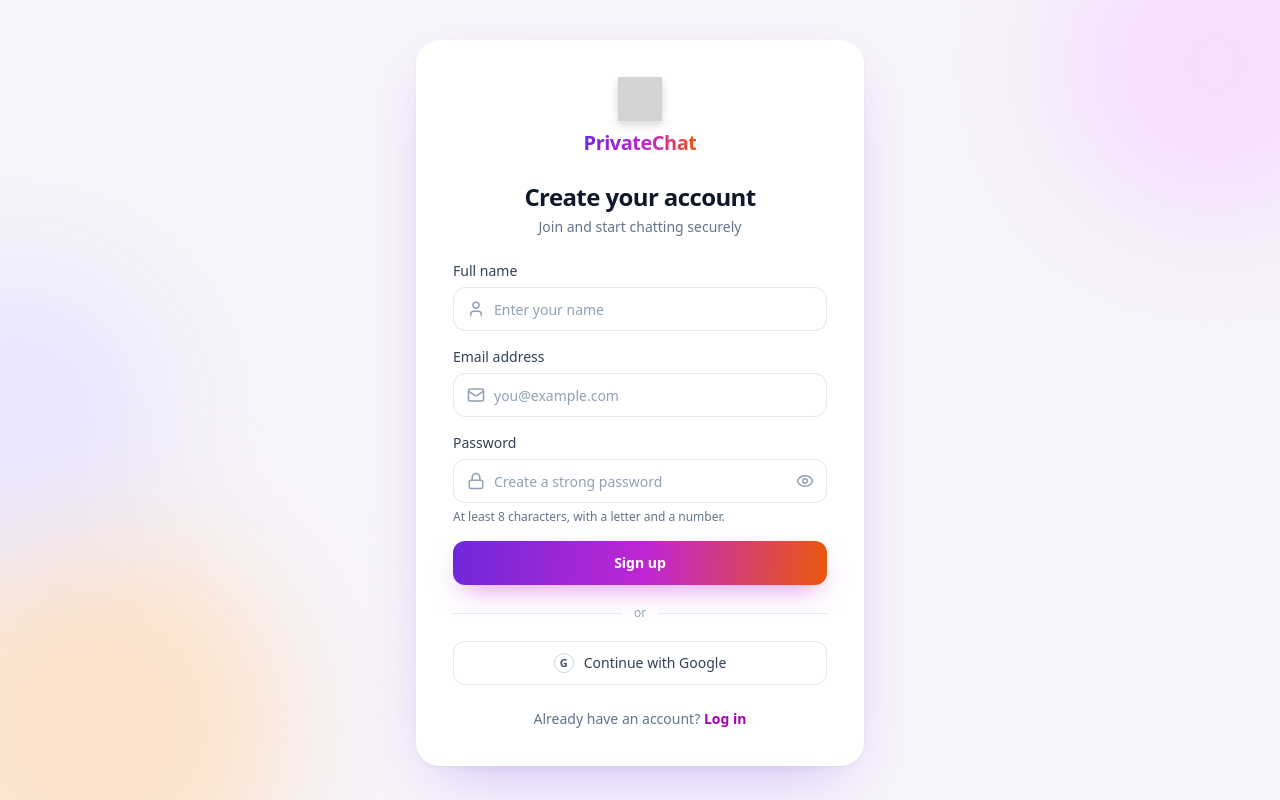
sign-up page › requires a letter and a number in the password
The image size is (1280, 800).
Type "Ratan Kumar" into the field labelled "Full name" at (640, 309), box [453,287,827,331]
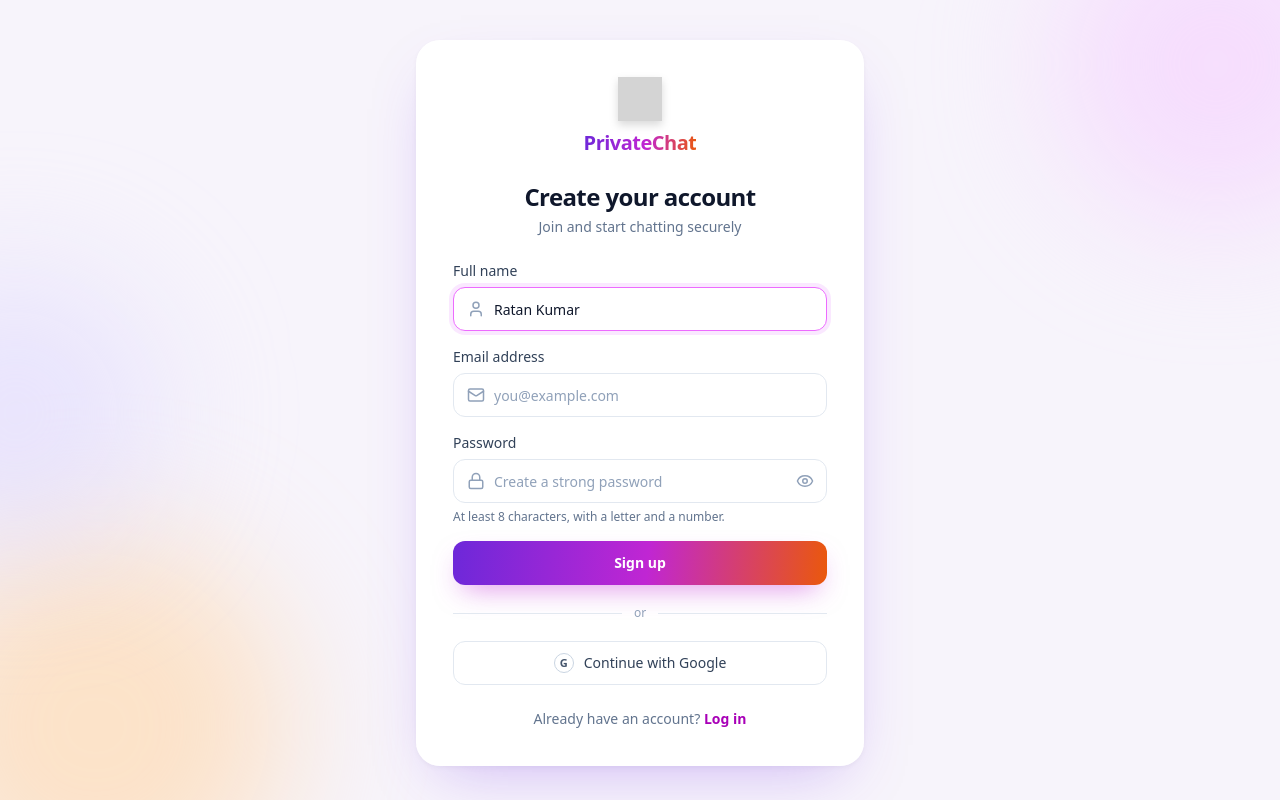
Type "ratan@example.com" into the field labelled "Email address" at (640, 395), box [453,373,827,417]
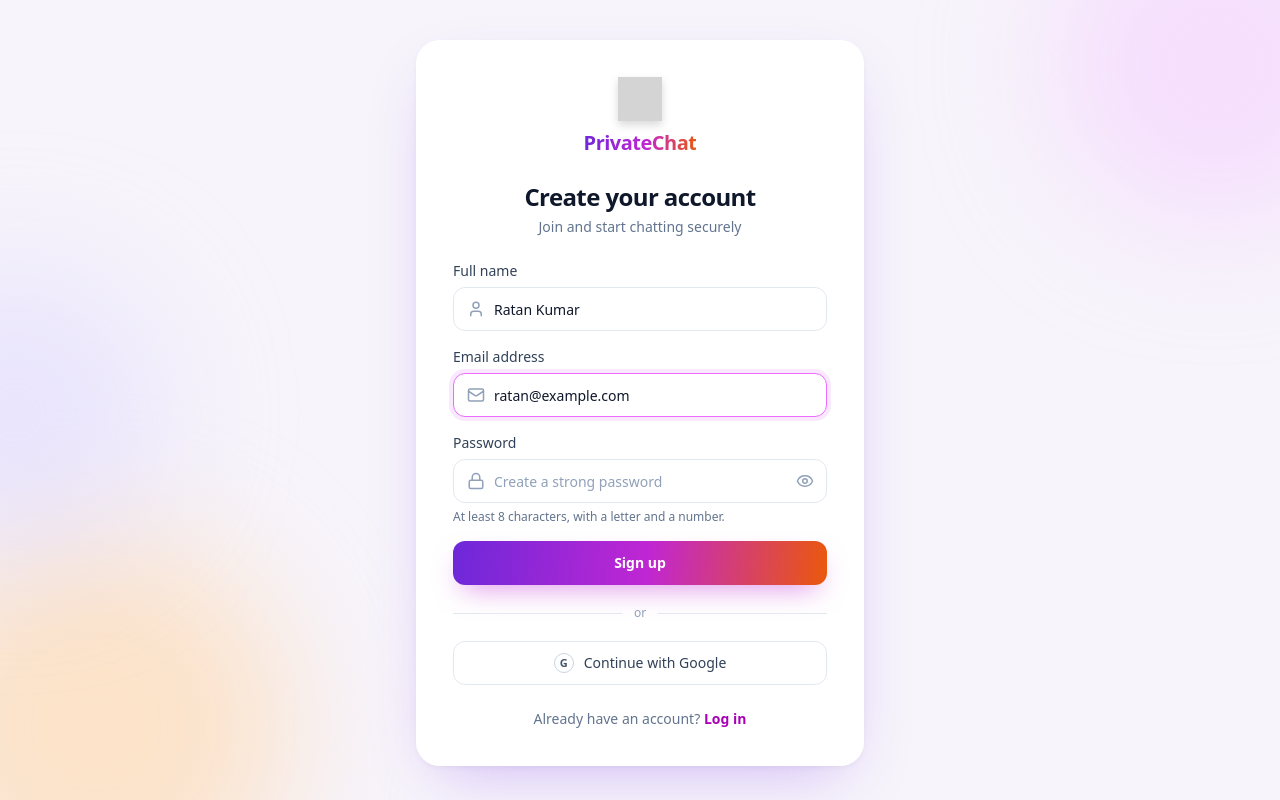
Type "abcdefgh" into the password field labelled "Password" at (640, 481), box [453,459,827,503]
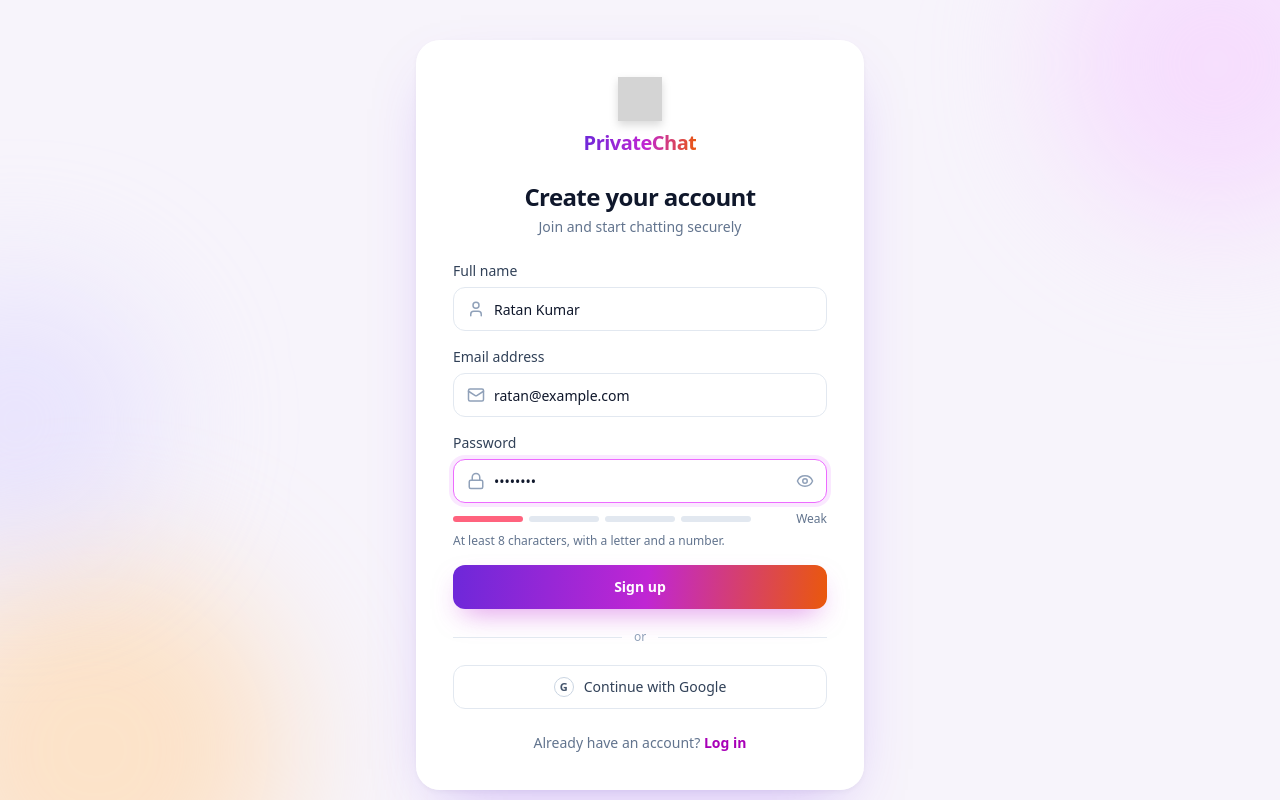
Click the button "Sign up" at (640, 587), box [453,565,827,609]
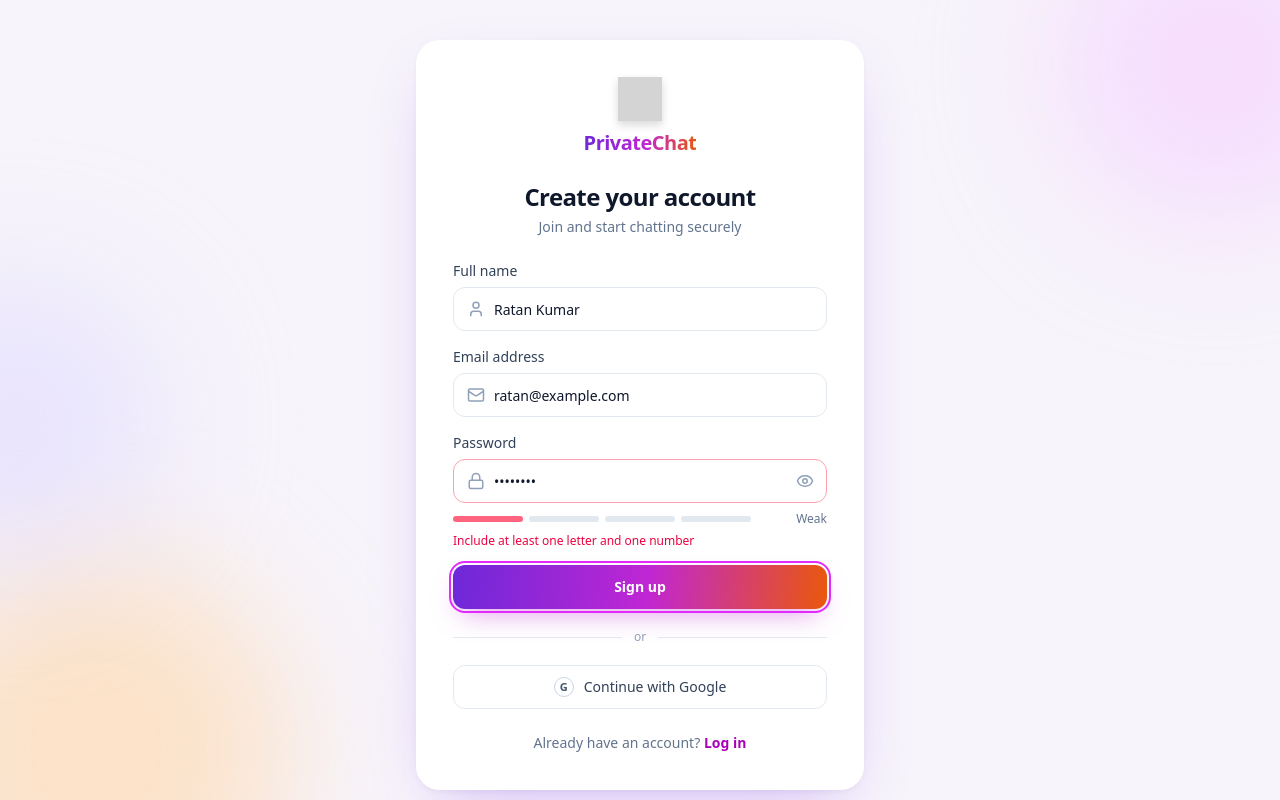
Expected: the text "Include at least one letter and one number" is shown, [453,532,694,549]
